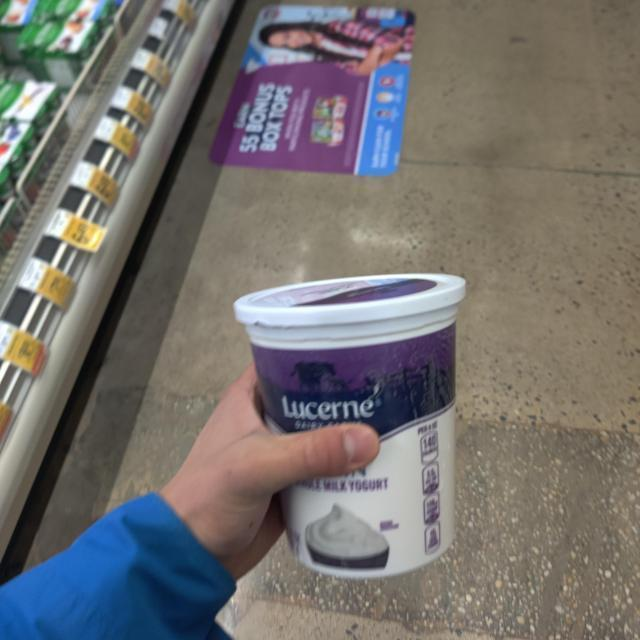Yogurt: (219, 258, 501, 598)
